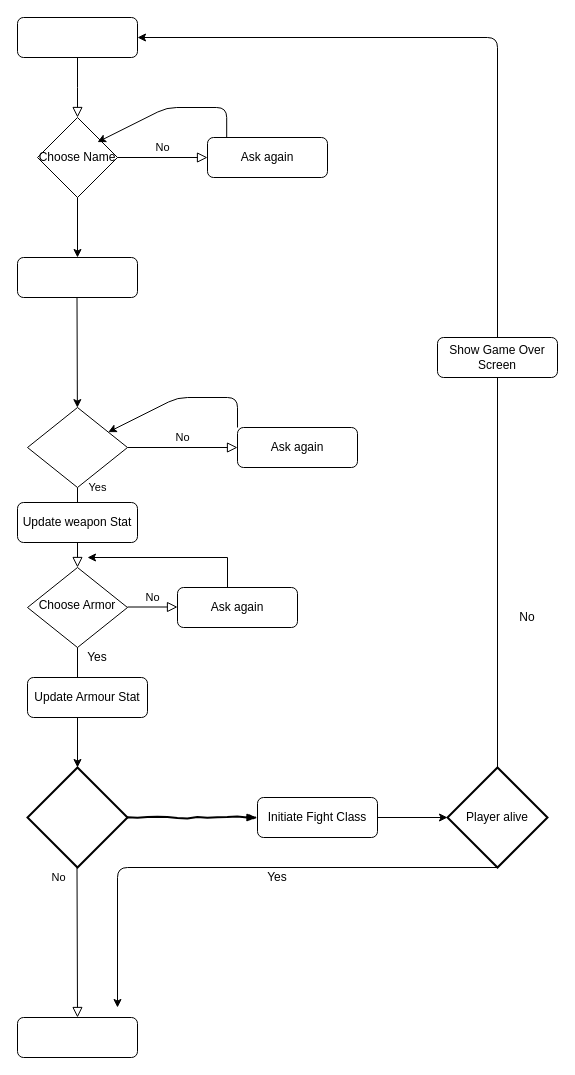
Some shapes in this 575 by 1075 pixel diagram are drawn without their labels. Each missing label, with the centre of its shape:
"Choose weapon" belongs at point 77,447.
"End" belongs at point 77,1037.
"Fight" belongs at point 77,817.
"Set Name" belongs at point 77,277.
"Start" belongs at point 77,37.
